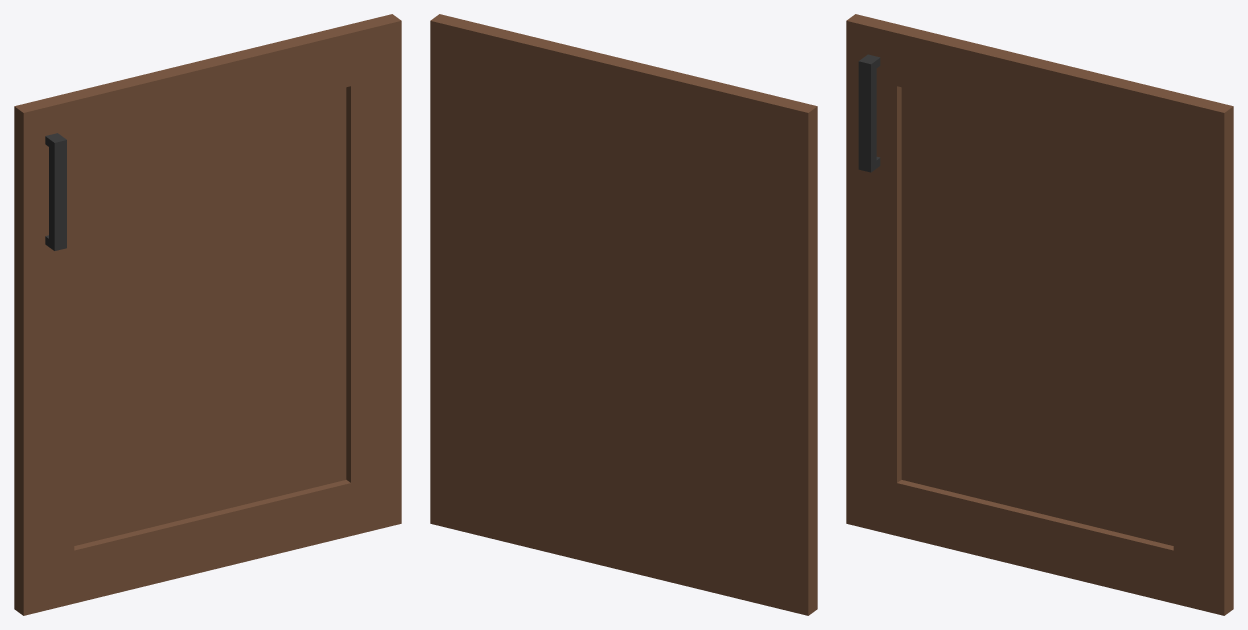
Rendered from Door2_C2_01.fbx.
3 views of the same model, side by side, from view 1: azimuth 30°, elevation 25°; view 2: azimuth 150°, elevation 25°; view 3: azimuth 330°, elevation 25° (orthographic).
Parts seen in each view (by area): view 1: Door2_C2_01; view 2: Door2_C2_01; view 3: Door2_C2_01.
Part boxes in pixels (box(x1,y1,x2,y2)): Door2_C2_01: box(14, 14, 401, 615); Door2_C2_01: box(430, 14, 817, 615); Door2_C2_01: box(846, 14, 1233, 615).
Bounding box in the file's own units: 59 × 75 × 5.03.
